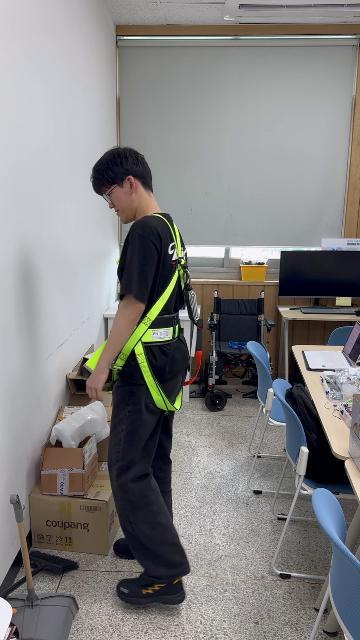helmet_not_worn: (86, 144, 158, 201)
shoe_worn: (116, 573, 185, 606), (111, 542, 172, 573)
vest_worn: (113, 214, 194, 411)
